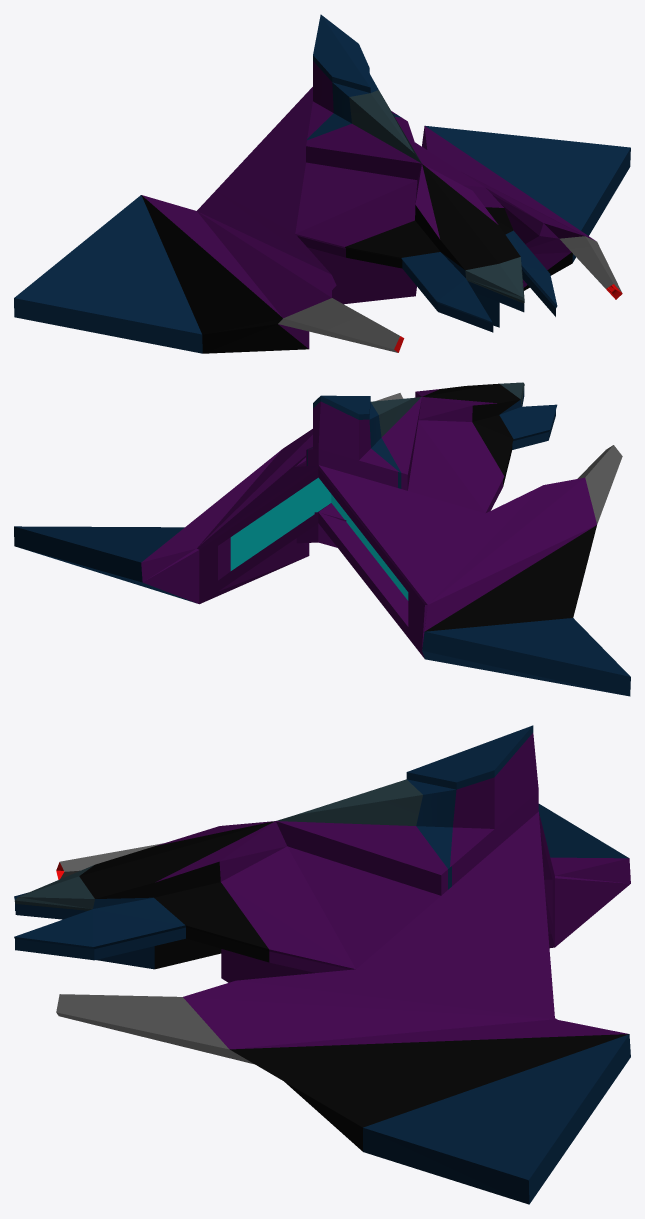
File: PlaneThird.fbx
3 renders of one model, top to bottom at view 1: azimuth 30°, elevation 25°; view 2: azimuth 150°, elevation 25°; view 3: azimuth 270°, elevation 25°, orthographic. The views are drawn at different scales.
Parts seen in each view (by area): view 1: polySurface1; view 2: polySurface1; view 3: polySurface1.
Boxes of the visible parts, x1,y1,x2,y2 form: polySurface1: (14,14,630,353); polySurface1: (14,382,630,696); polySurface1: (14,725,630,1204).
Bounding box in the file's own units: 245 × 94.1 × 167.
